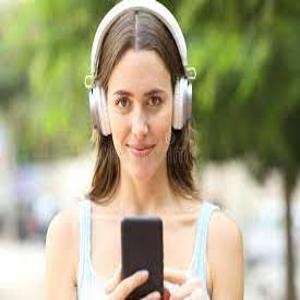Headphones: (83, 1, 199, 140)
